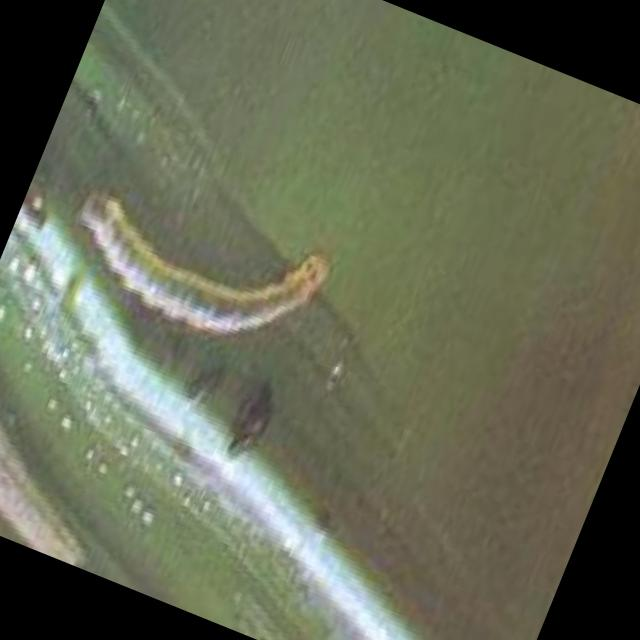leaf-folder: (47, 145, 345, 382)
